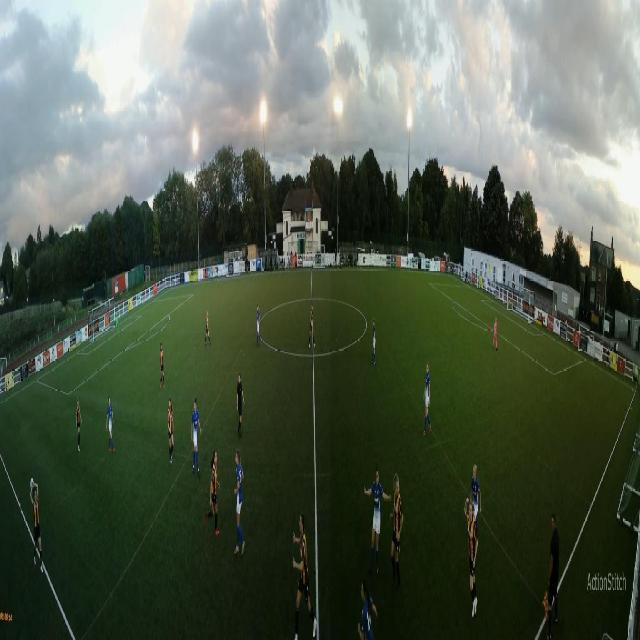ball: (30, 478, 34, 490)
player: (293, 511, 318, 639), (364, 465, 392, 576), (464, 498, 478, 618), (390, 472, 404, 591), (205, 449, 220, 538), (357, 580, 378, 640), (234, 448, 245, 555), (190, 397, 201, 477), (422, 362, 432, 436), (470, 464, 482, 520), (30, 479, 43, 530), (236, 372, 245, 439), (106, 396, 115, 453), (167, 397, 174, 465), (308, 303, 316, 350), (76, 397, 82, 453), (160, 341, 166, 390), (370, 317, 376, 365), (205, 309, 212, 346), (256, 305, 262, 346), (492, 316, 498, 351), (115, 314, 119, 338)
